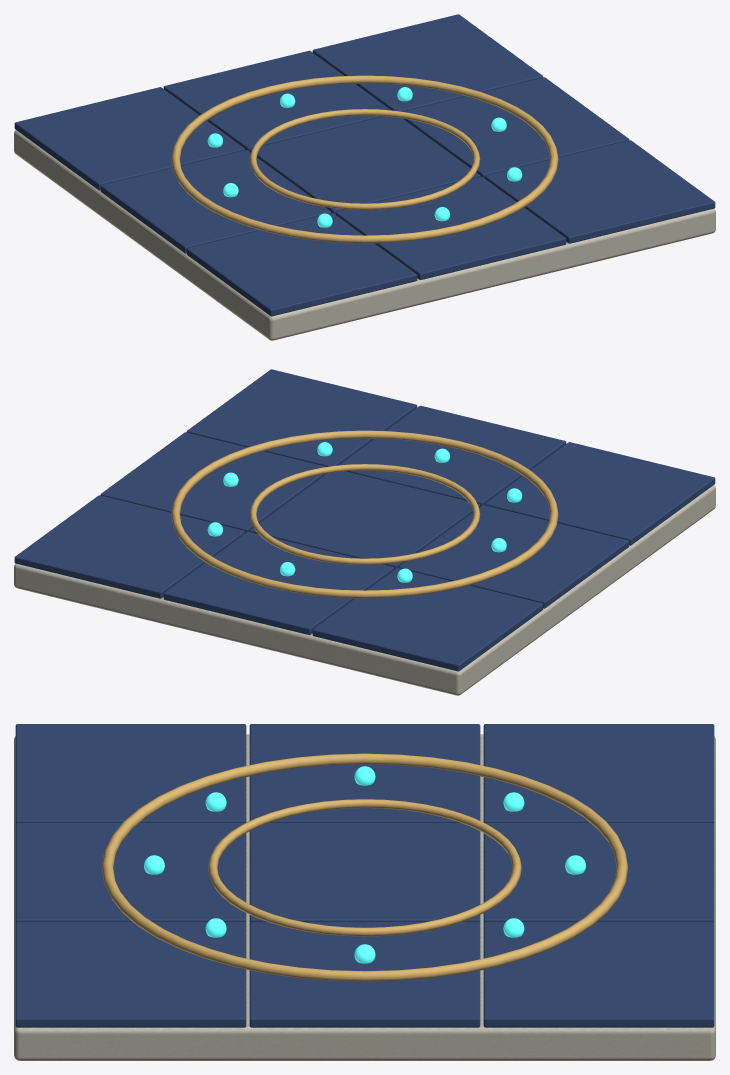
The model's file is arcane-academy-and-spell-trials-celestial-mosaic-floor-106047de__28270.glb.
The picture shows the model from 3 angles, top to bottom: view 1: azimuth 30°, elevation 25°; view 2: azimuth 150°, elevation 25°; view 3: azimuth 270°, elevation 25°; orthographic projection. The views are drawn at different scales.
Parts seen in each view (by area): view 1: celestial-mosaic-floor; view 2: celestial-mosaic-floor; view 3: celestial-mosaic-floor.
Part boxes in pixels (<box>): celestial-mosaic-floor: <box>14,14,715,340</box>; celestial-mosaic-floor: <box>14,369,715,695</box>; celestial-mosaic-floor: <box>14,724,715,1060</box>.
Bounding box in the file's own units: 3 × 0.275 × 3.
4 materials, 1 textured.
